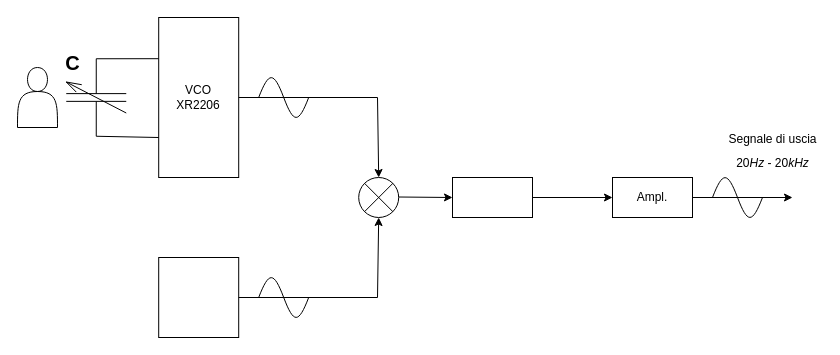
Some shapes in this 840 by 355 pixel diagram are drawn without their labels. The shapes that lost their labels are listed below. From the top down, each one's centre as x and y in pixels, then its label:
At (492,197): "Filtro".
At (198,297): "Oscillatore".
